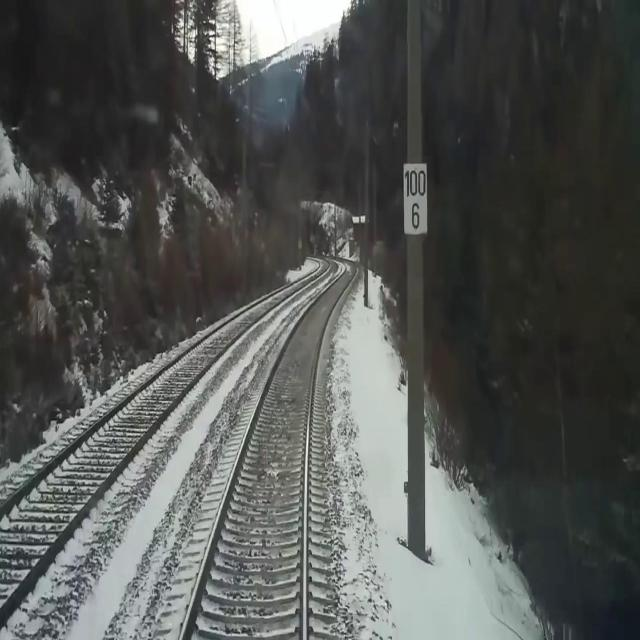rail-track: (0, 257, 328, 604), (182, 258, 355, 639)
